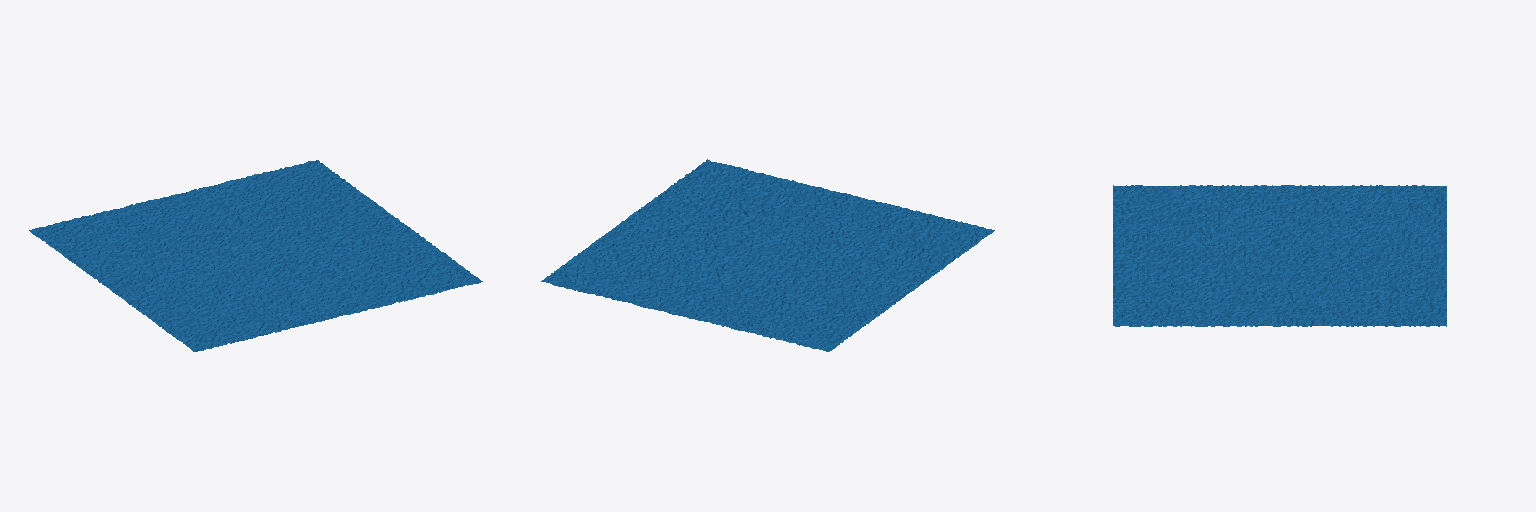
Rendered from sea.obj.
3 views of the same model, side by side, from view 1: azimuth 30°, elevation 25°; view 2: azimuth 150°, elevation 25°; view 3: azimuth 270°, elevation 25° (orthographic).
Visible parts, largest first — view 1: Plane_Plane.001; view 2: Plane_Plane.001; view 3: Plane_Plane.001.
Boxes of the visible parts, <box> form: Plane_Plane.001: <box>29,160,482,351</box>; Plane_Plane.001: <box>541,159,994,351</box>; Plane_Plane.001: <box>1113,185,1446,326</box>.
Size of the model in its own units: 138 by 0.6918 by 138.